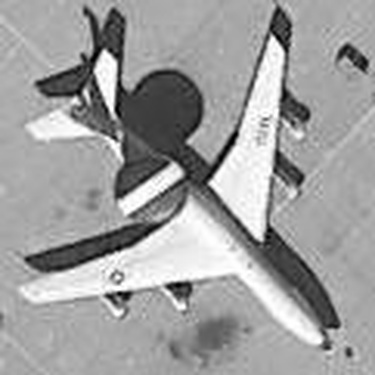airplane: (12, 13, 359, 361)
